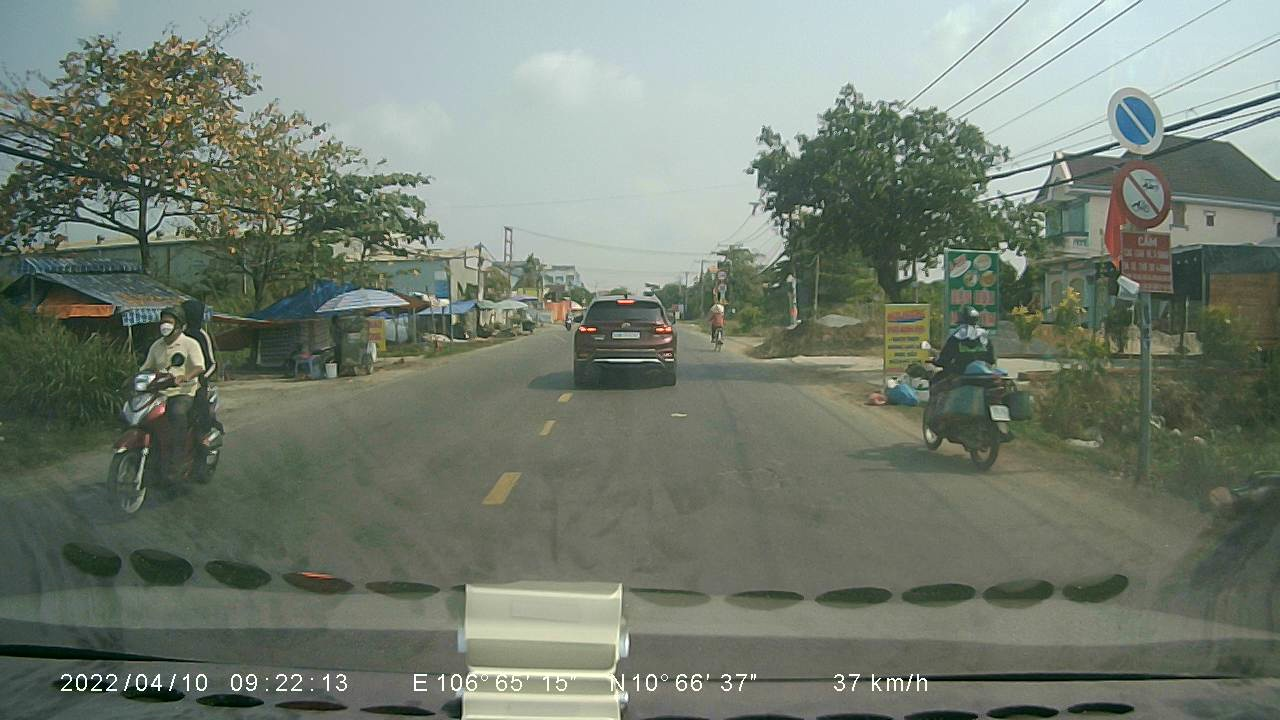Bien khac: (1109, 158, 1172, 226)
Cam do xe: (1107, 82, 1168, 154)
